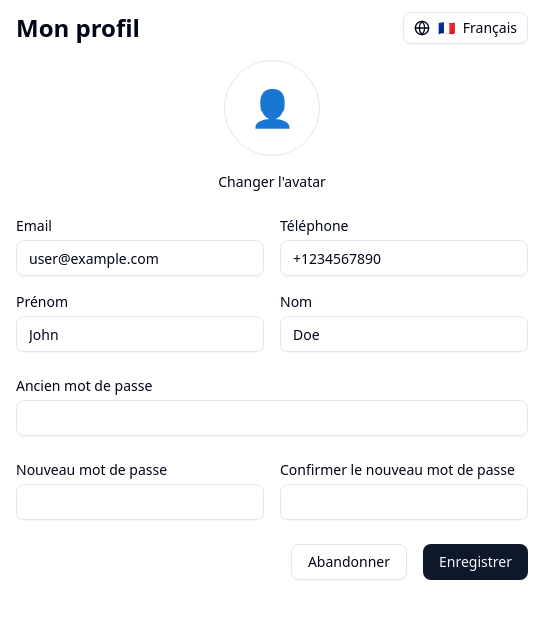
Test: Profile Component › Form Submission › should show success message on successful update
Step 1. Click the button with test id "profile-save-button" → click(476, 562), box left=423, top=544, right=528, bottom=580
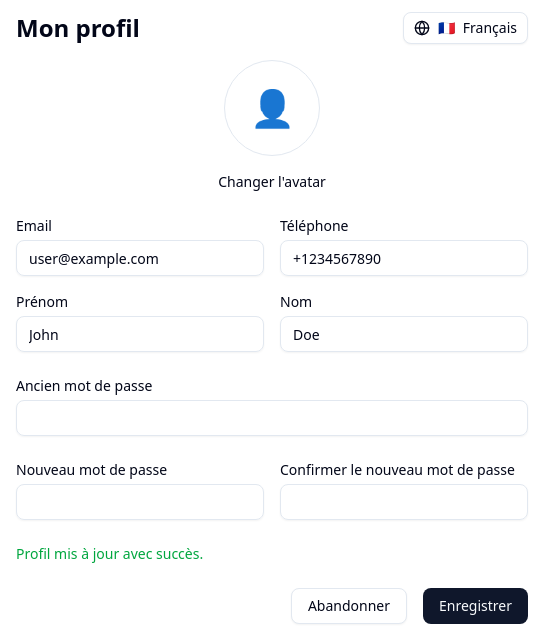
expect the text with test id "profile-message" reads "Profil mis à jour avec succès.": met, box left=16, top=544, right=203, bottom=563
